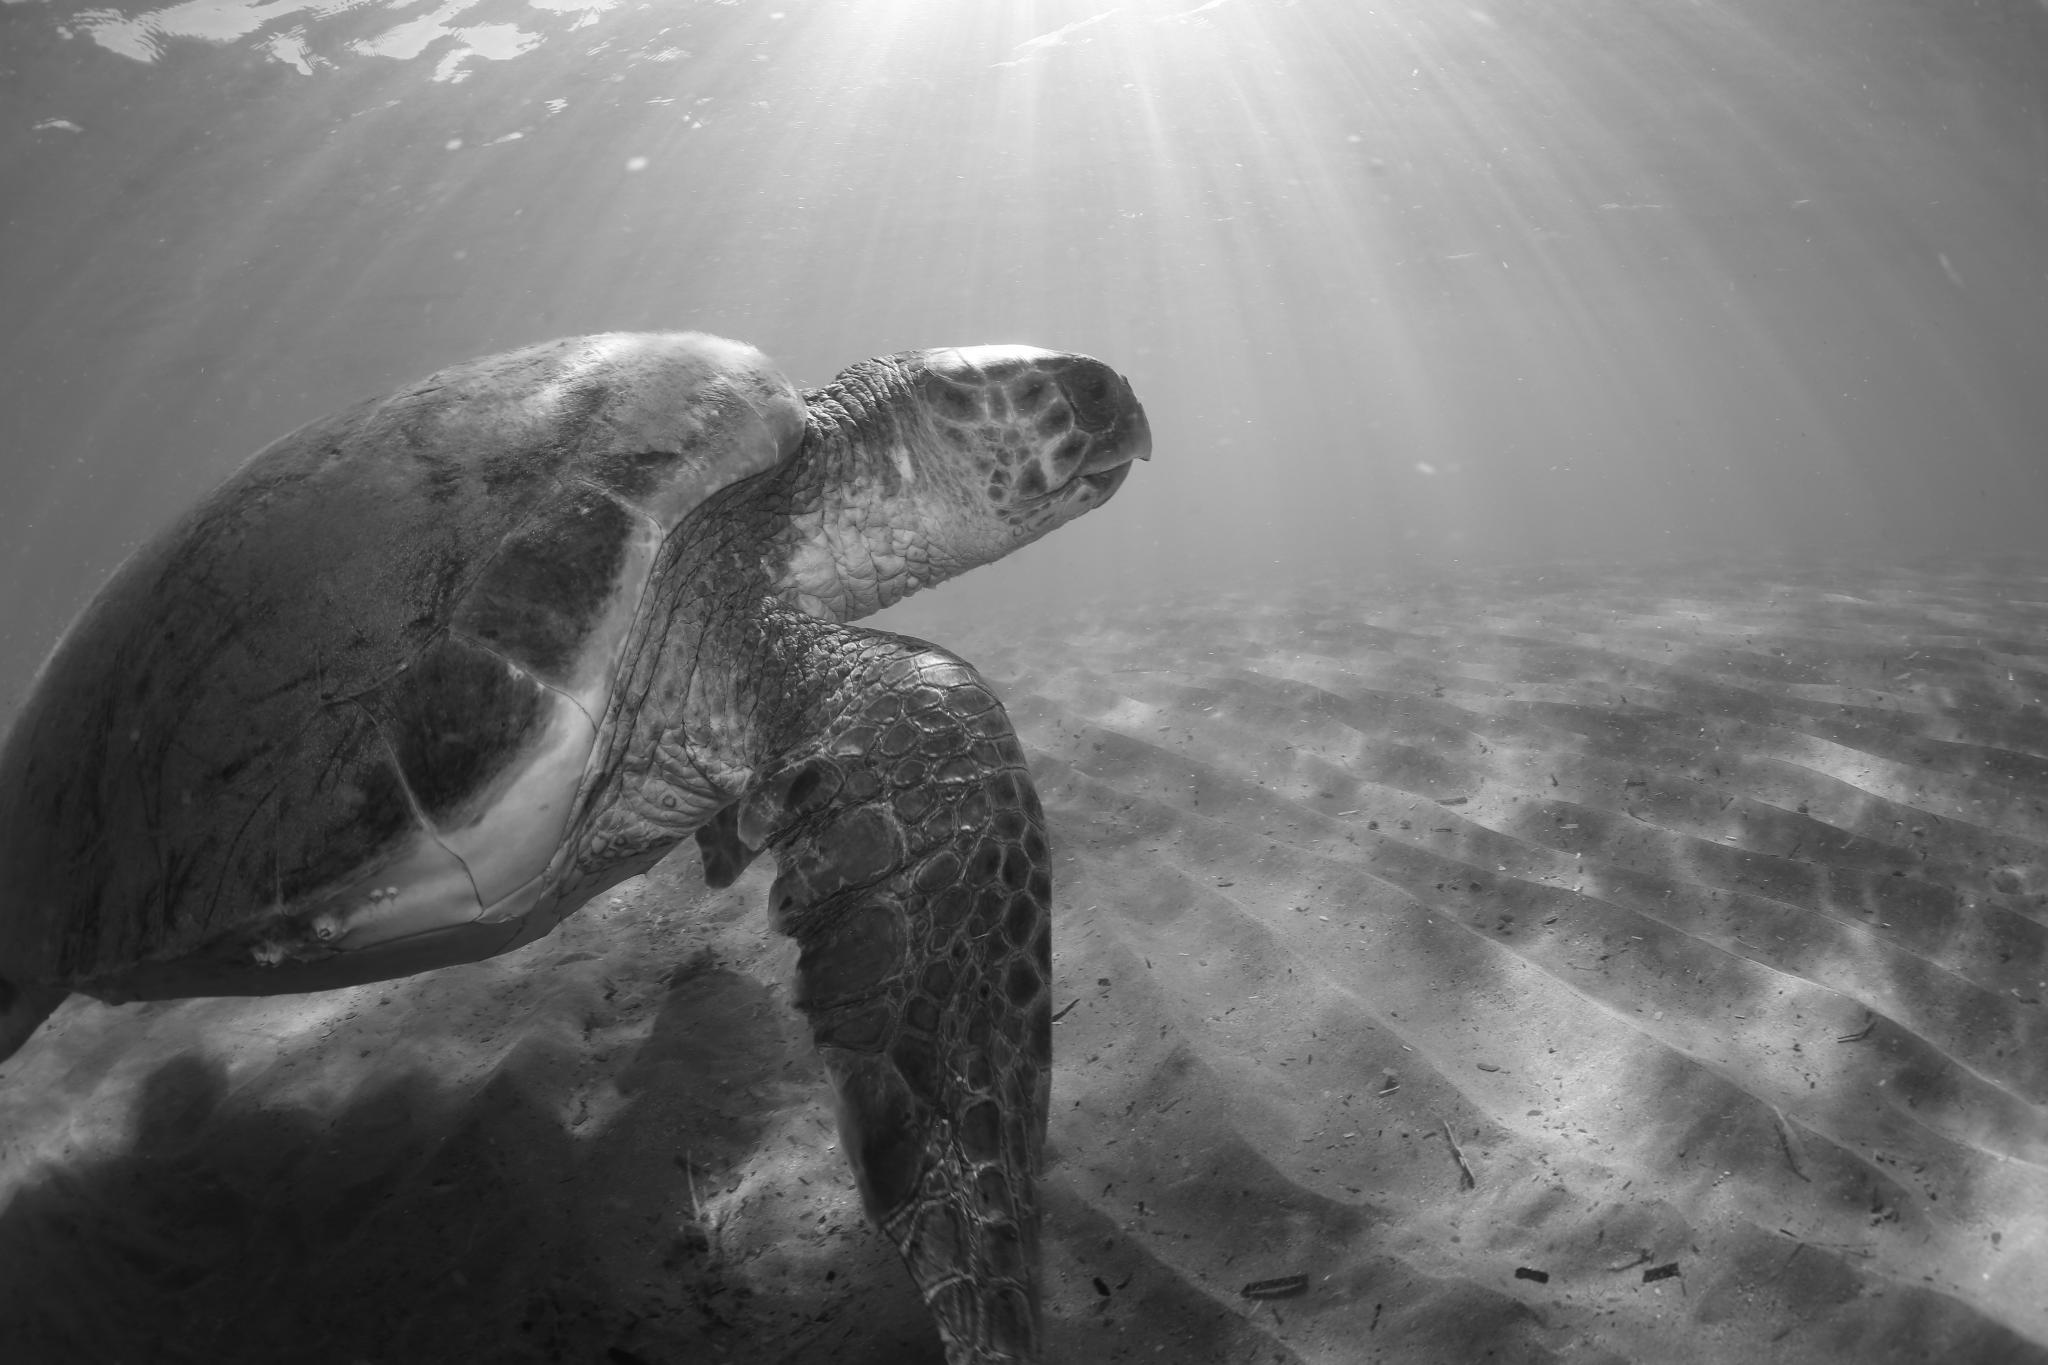Head: (781, 345, 1152, 612)
